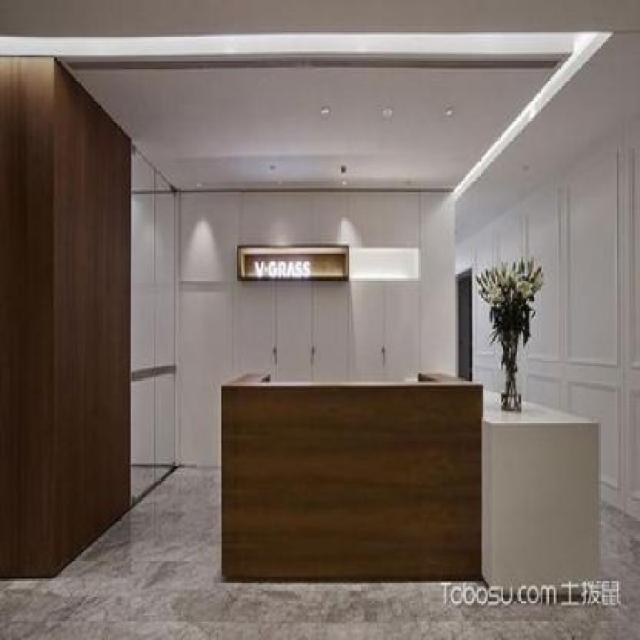frontdesk: (217, 354, 607, 607)
